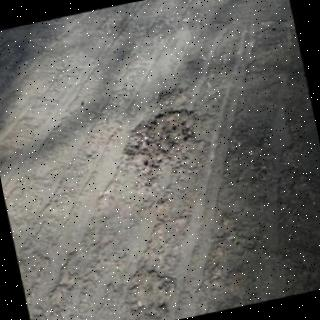pothole: (125, 109, 206, 187)
